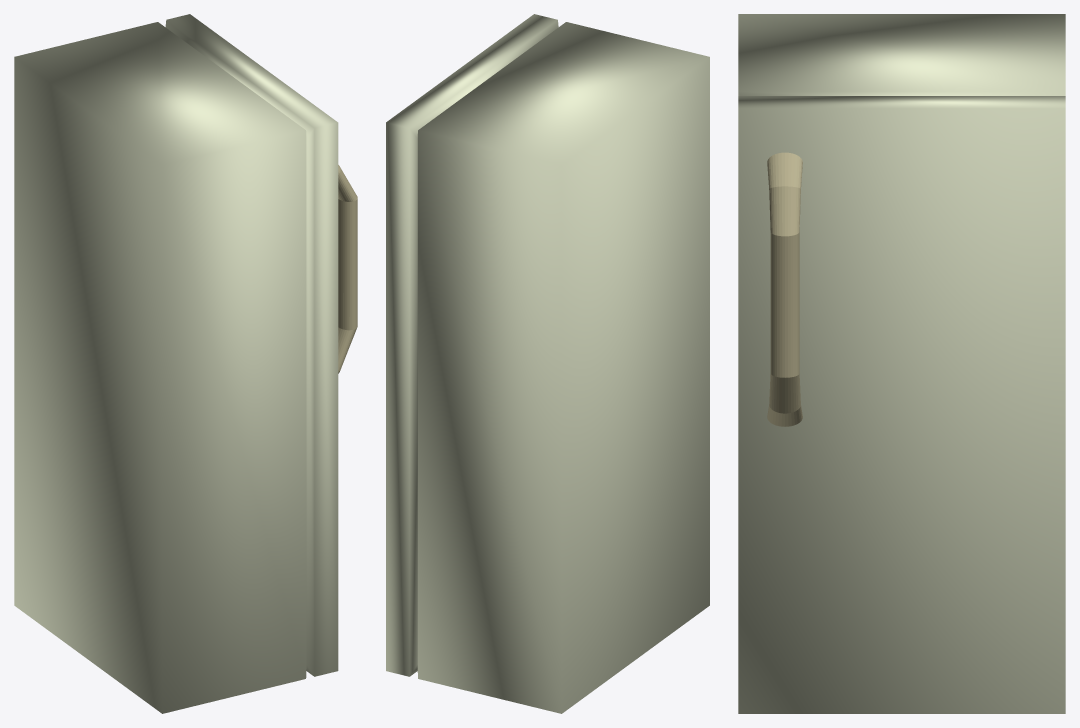
The model's file is Fridge.fbx.
3 renders of one model, left to right at view 1: azimuth 30°, elevation 25°; view 2: azimuth 150°, elevation 25°; view 3: azimuth 270°, elevation 25°, orthographic. The views are drawn at different scales.
Visible parts, largest first — view 1: Cube, Cylinder; view 2: Cube; view 3: Cube, Cylinder.
Boxes of the visible parts, x1,y1,x2,y2 form: Cube: (14,14,338,713); Cylinder: (338,165,357,373); Cube: (386,14,709,713); Cube: (738,14,1065,713); Cylinder: (767,152,802,426).
Size of the model in its own units: 286 by 701 by 343.
